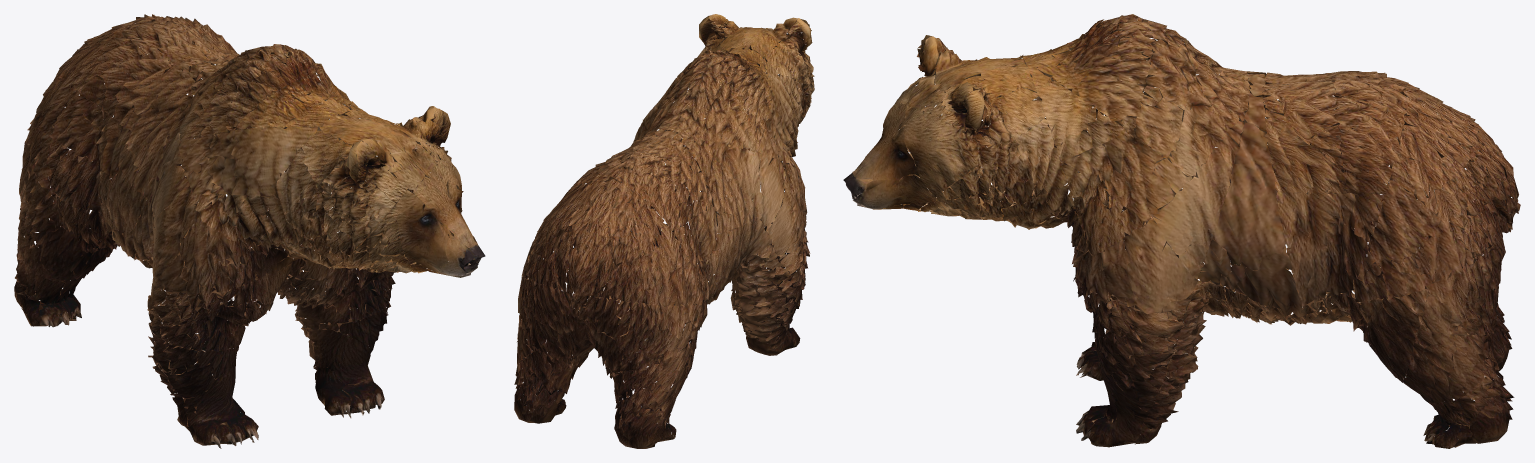
File: bear.glb
3 renders of one model, left to right at view 1: azimuth 30°, elevation 25°; view 2: azimuth 150°, elevation 25°; view 3: azimuth 270°, elevation 25°, orthographic. The views are drawn at different scales.
Parts seen in each view (by area): view 1: bear; view 2: bear; view 3: bear.
Boxes of the visible parts, bbox=[...] form: bear: bbox=[14, 14, 485, 448]; bear: bbox=[514, 14, 814, 448]; bear: bbox=[843, 14, 1520, 448].
Bounding box in the file's own units: 0.8337 × 1.25 × 2.
Materials: 1 (1 with a texture image).
